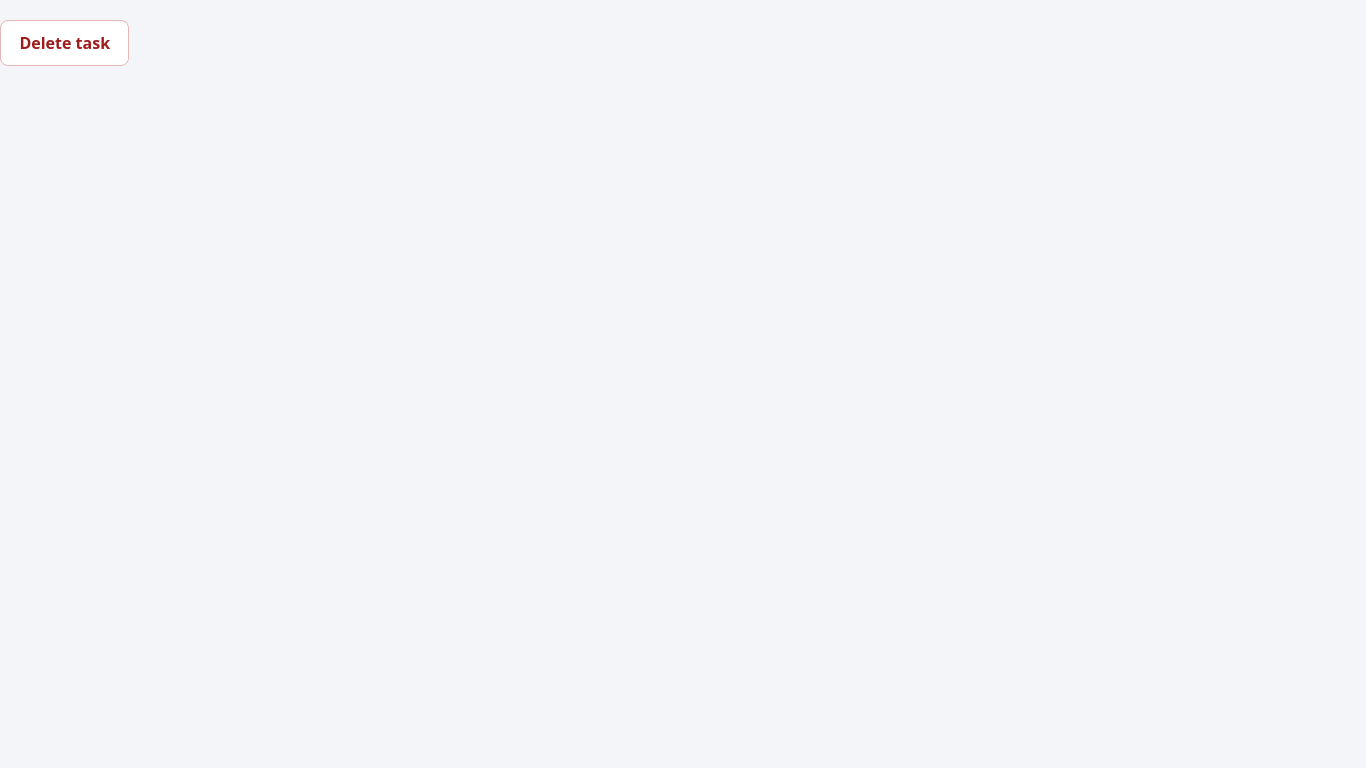
Test: TaskDelete › requires a confirmation before any delete request is sent
Click the button "Delete task": (65, 43) top-left (0, 20), bottom-right (130, 66)
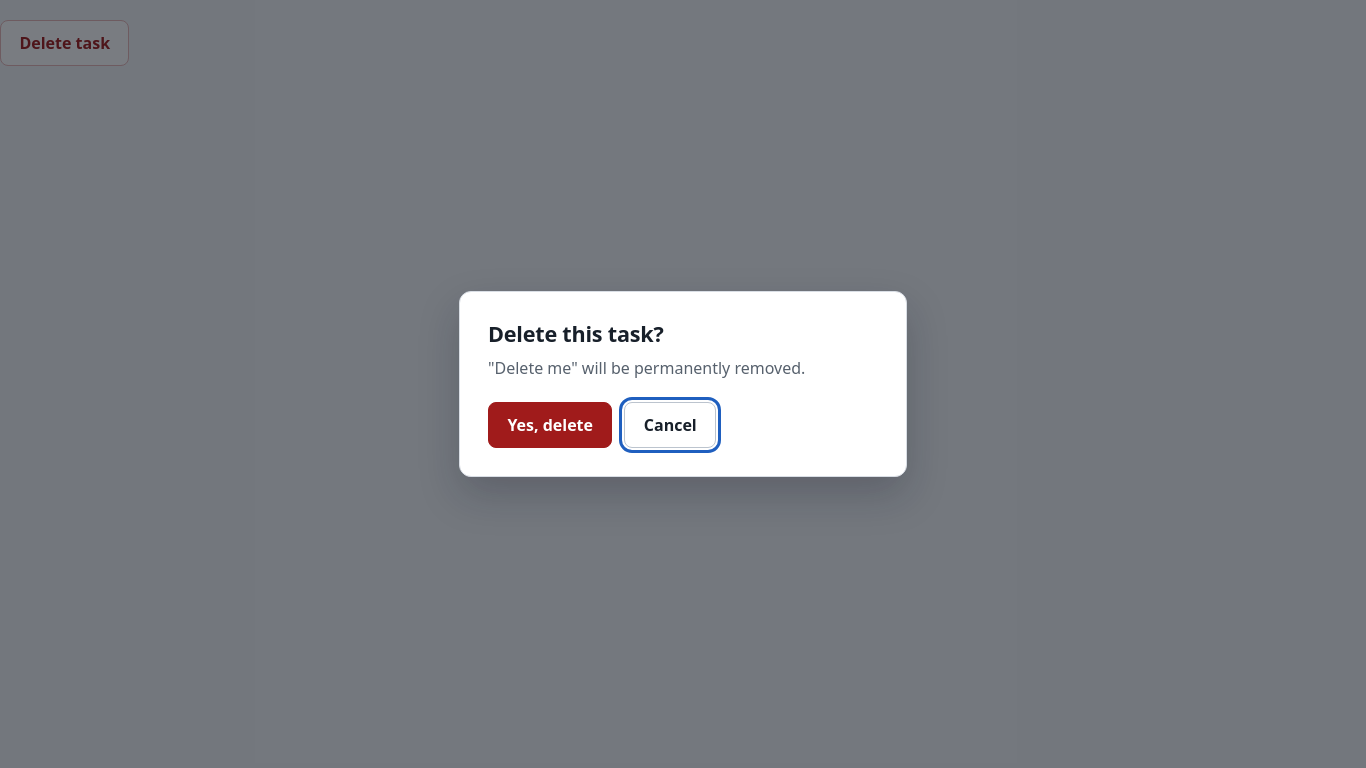
Now the dialog is shown, box top-left (459, 290), bottom-right (907, 478)
